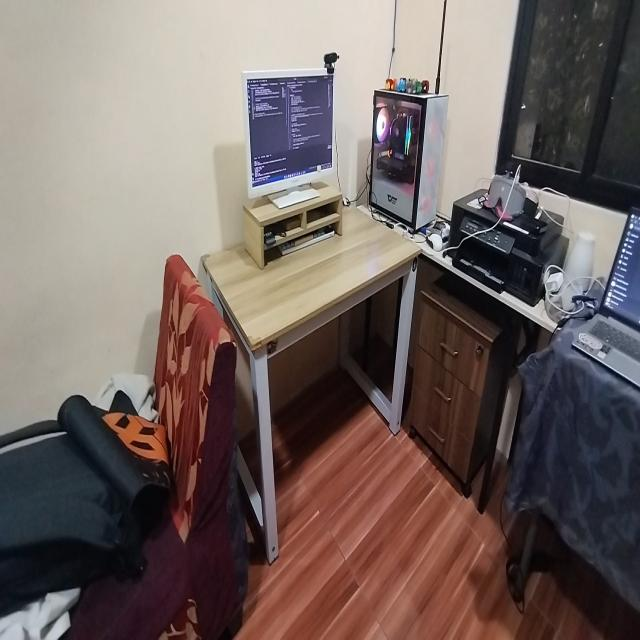table: (219, 194, 418, 508)
